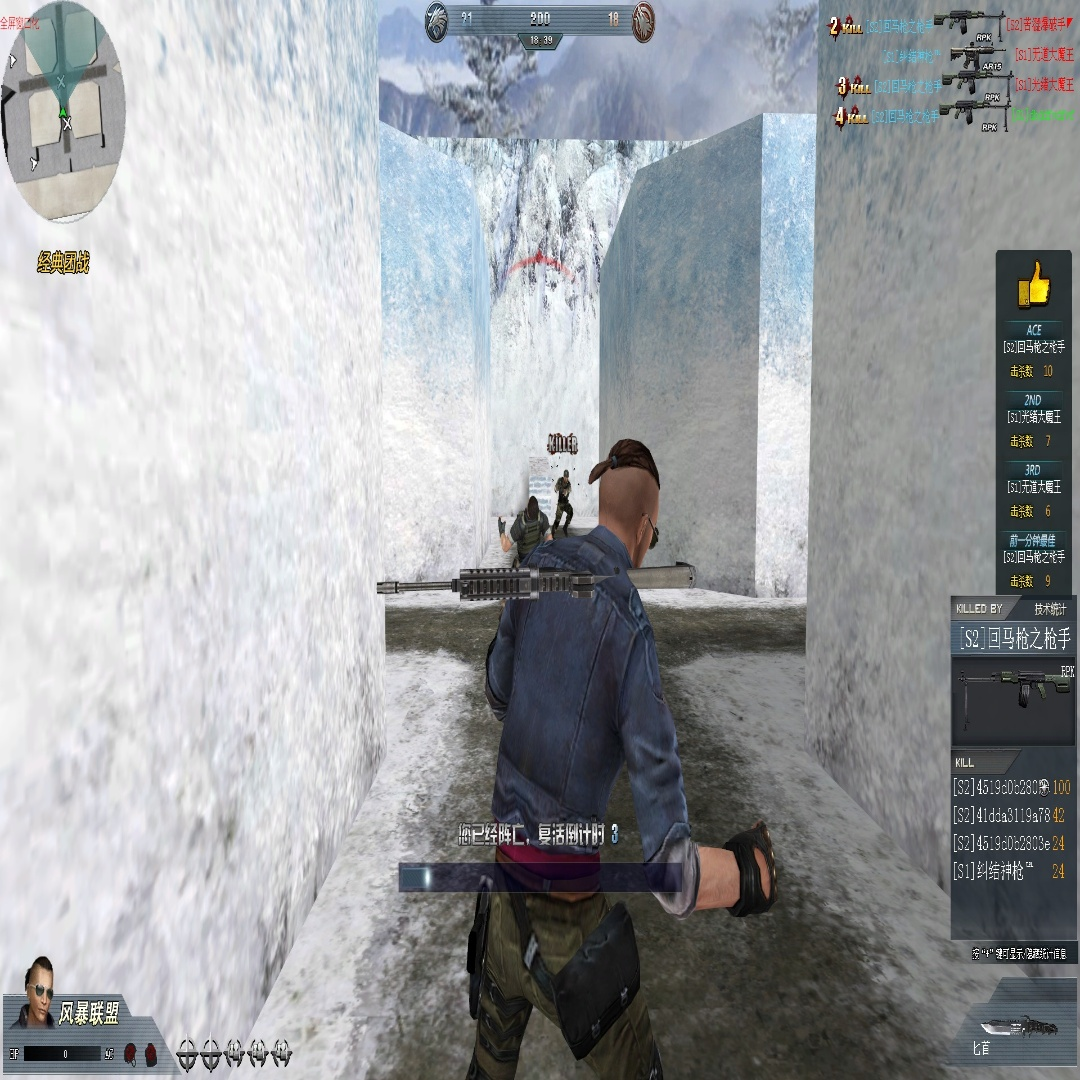ct: (551, 470, 574, 539)
